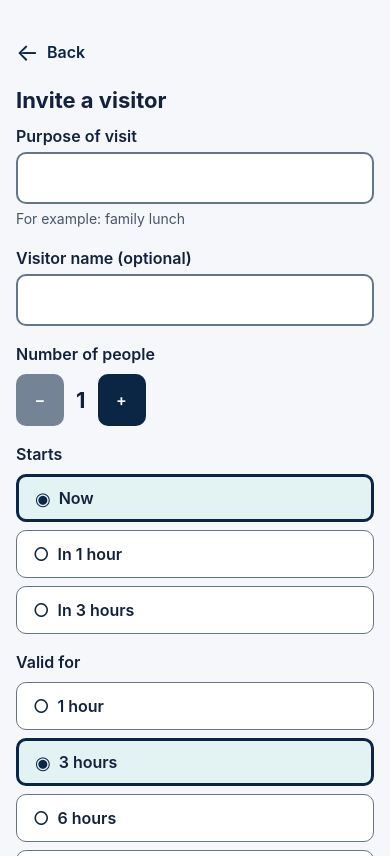
Test: invite creation › a failed attempt (network) is retried with the SAME key and the SAME frozen body; editing a field starts a new command
Later steps or results of the test are not shown.
Type "Delivery" into the field with test id "input-purpose".
click(195, 178); type("Delivery")  # box x1=16 y1=152 x2=374 y2=204
(page scrolled)
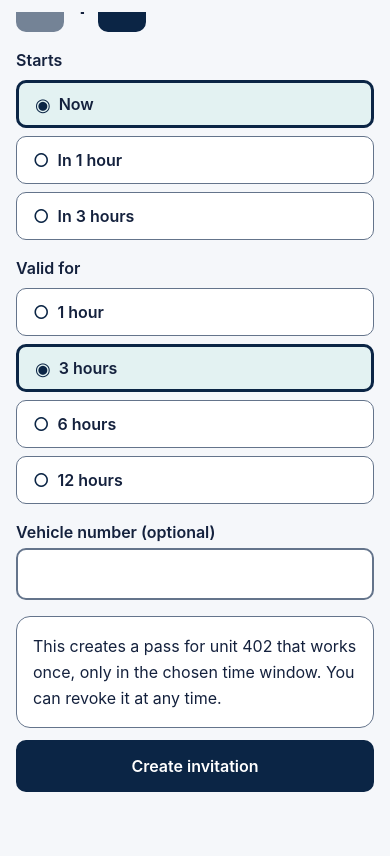
Click the button "Create invitation".
click(195, 766)  # box x1=16 y1=740 x2=374 y2=792
(page scrolled)
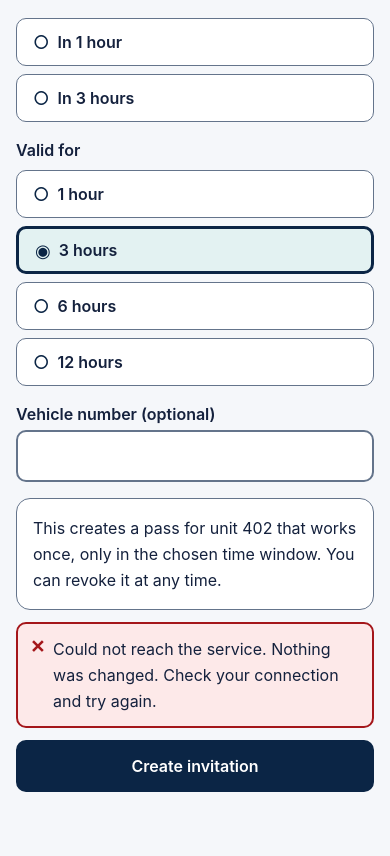
Check: the message with test id "invite-error" is shown, box x1=16 y1=622 x2=374 y2=728
